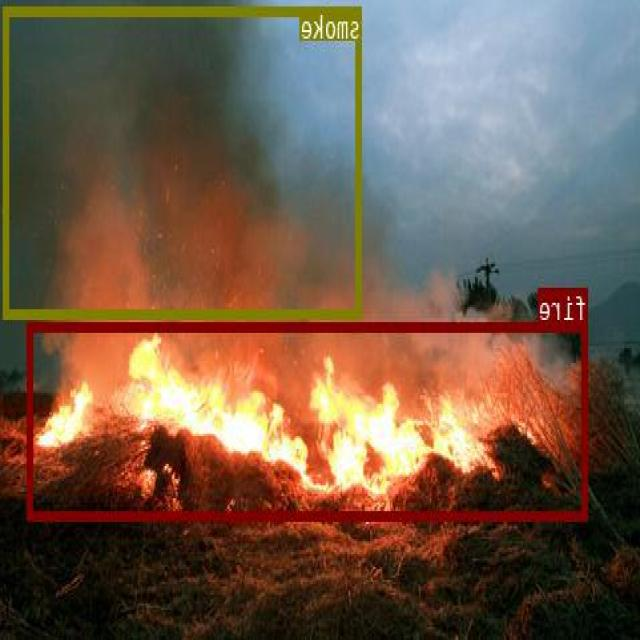fire: (29, 321, 589, 518)
smoke: (4, 5, 362, 316)
